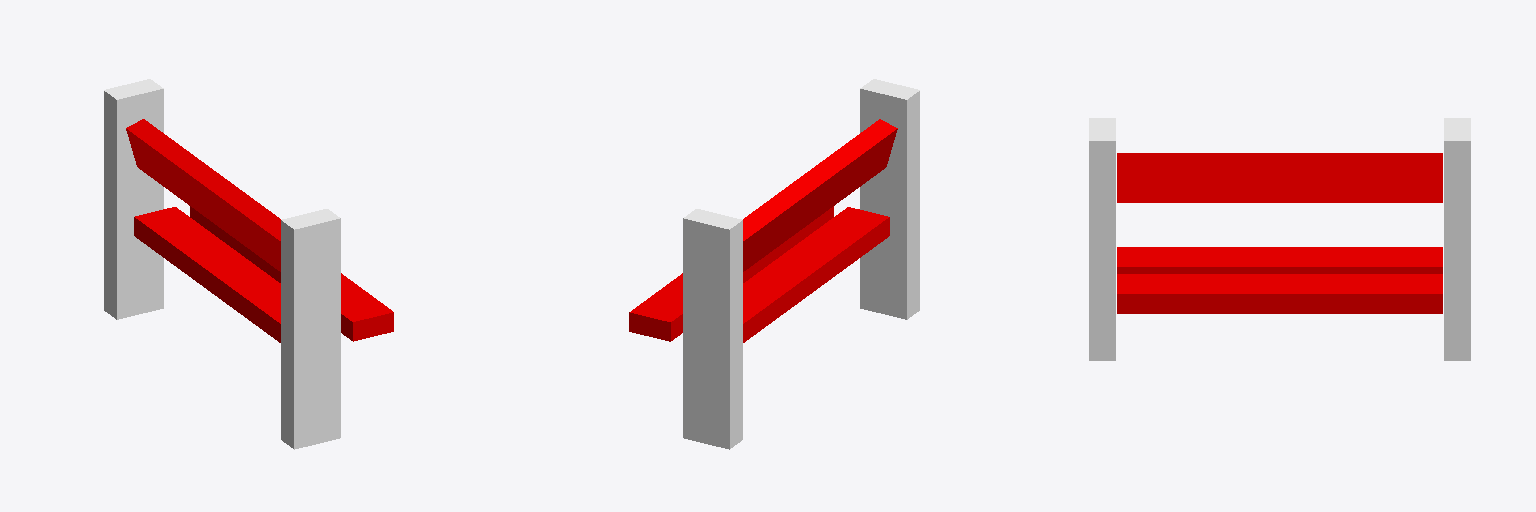
Rendered from bench_01.obj.
The picture shows the model from 3 angles: view 1: azimuth 30°, elevation 25°; view 2: azimuth 150°, elevation 25°; view 3: azimuth 270°, elevation 25°; orthographic projection.
Visible parts, largest first — view 1: Box01, Box02, Box03, Box05, Box04; view 2: Box02, Box01, Box03, Box05, Box04; view 3: Box05, Box04, Box03, Box01, Box02.
Boxes of the visible parts, x1=… form: Box01: x1=281, y1=209, x2=340, y2=449; Box02: x1=104, y1=79, x2=163, y2=319; Box03: x1=134, y1=207, x2=280, y2=342; Box05: x1=126, y1=119, x2=280, y2=271; Box04: x1=190, y1=206, x2=393, y2=341; Box02: x1=683, y1=209, x2=742, y2=449; Box01: x1=860, y1=79, x2=919, y2=319; Box03: x1=743, y1=207, x2=889, y2=342; Box05: x1=743, y1=119, x2=897, y2=271; Box04: x1=629, y1=206, x2=833, y2=341; Box05: x1=1117, y1=153, x2=1442, y2=202; Box04: x1=1117, y1=274, x2=1442, y2=313; Box03: x1=1117, y1=247, x2=1442, y2=273; Box01: x1=1089, y1=118, x2=1115, y2=360; Box02: x1=1444, y1=118, x2=1470, y2=360.
Bounding box in the file's own units: 0.9776 × 1.8 × 2.83.